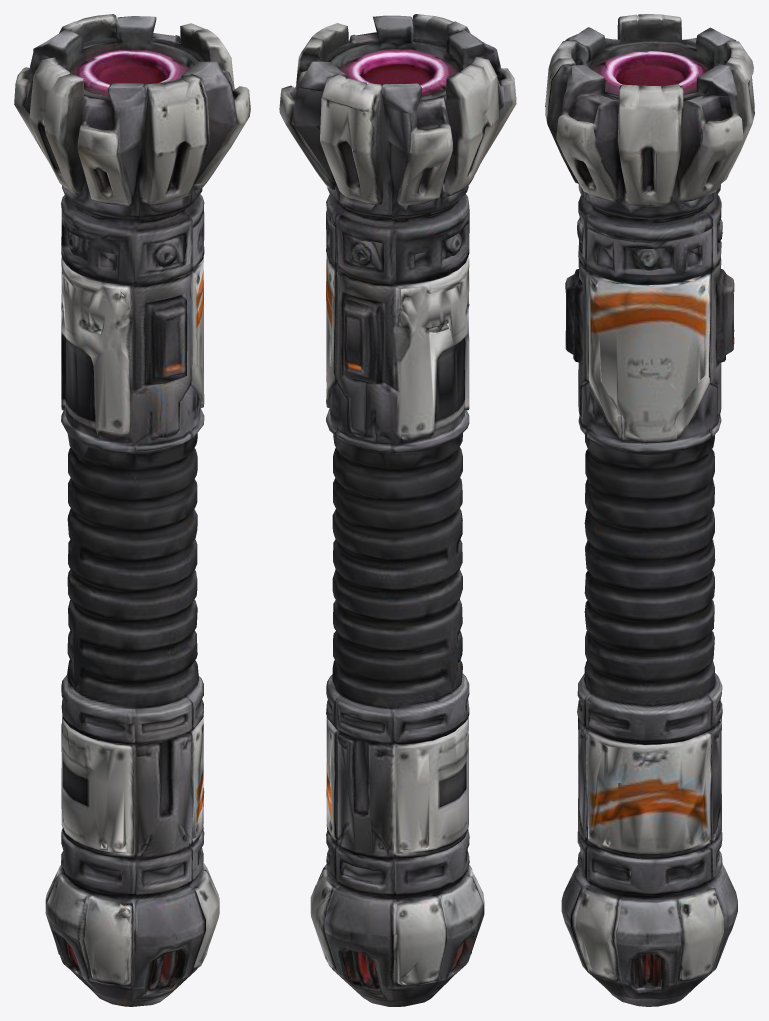
The model's file is hilt.glb.
3 views of the same model, side by side, from view 1: azimuth 30°, elevation 25°; view 2: azimuth 150°, elevation 25°; view 3: azimuth 270°, elevation 25° (orthographic).
Parts seen in each view (by area): view 1: tripo_node_00941e05-233c-4d3a-9a1b-b1e7c8ba6202; view 2: tripo_node_00941e05-233c-4d3a-9a1b-b1e7c8ba6202; view 3: tripo_node_00941e05-233c-4d3a-9a1b-b1e7c8ba6202.
Part boxes in pixels (<box>): tripo_node_00941e05-233c-4d3a-9a1b-b1e7c8ba6202: <box>14,14,250,1006</box>; tripo_node_00941e05-233c-4d3a-9a1b-b1e7c8ba6202: <box>279,14,516,1006</box>; tripo_node_00941e05-233c-4d3a-9a1b-b1e7c8ba6202: <box>545,14,754,1006</box>.
Bounding box in the file's own units: 0.1984 × 0.9831 × 0.1991.
Materials: 1 (1 with a texture image).
